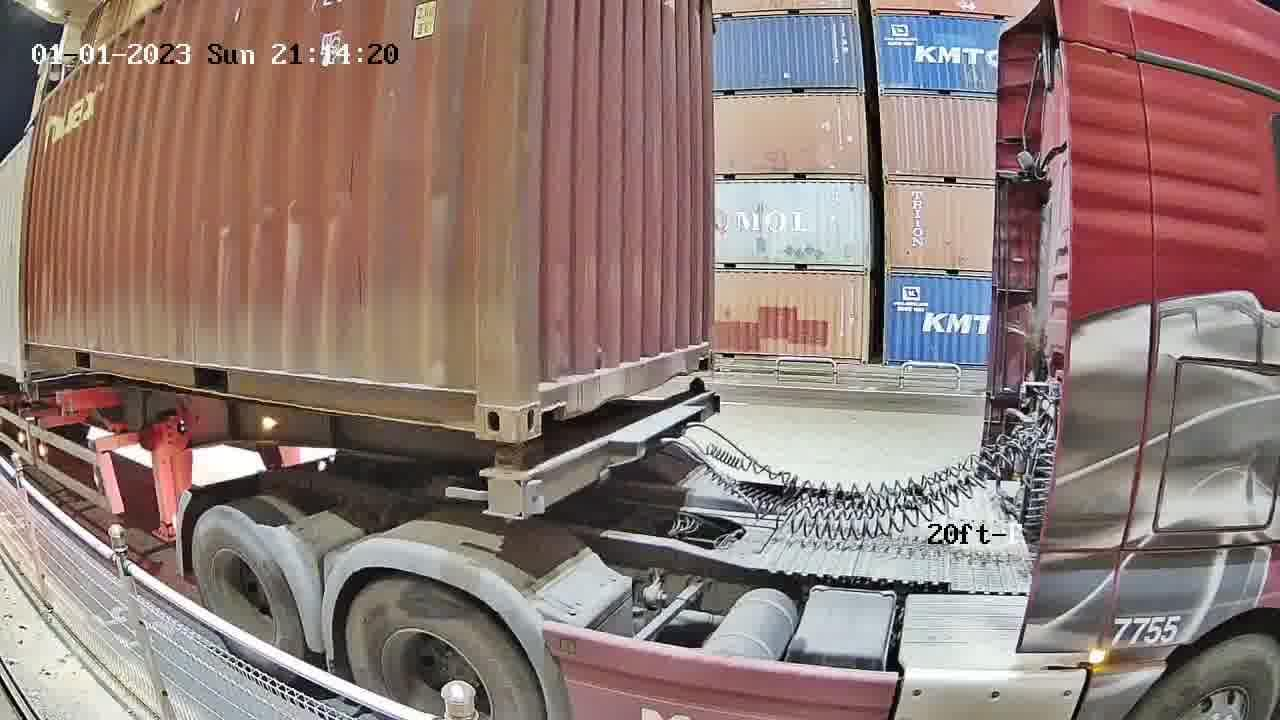Chassis: (490, 387, 724, 500)
Cone: (473, 448, 531, 514), (687, 375, 710, 401)
Hole_L: (514, 343, 575, 441)
Hole_R: (442, 353, 517, 445)
Tire: (344, 577, 549, 714), (193, 509, 303, 658)
